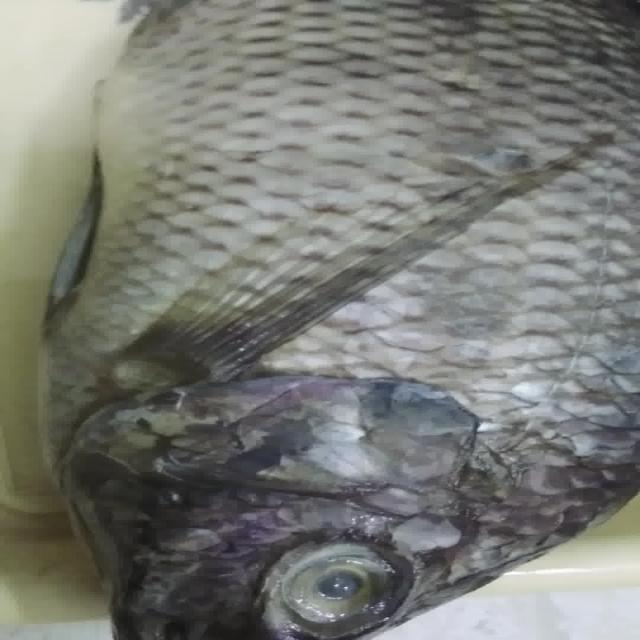Non-Fresh: (85, 272, 620, 497), (269, 539, 397, 618)
